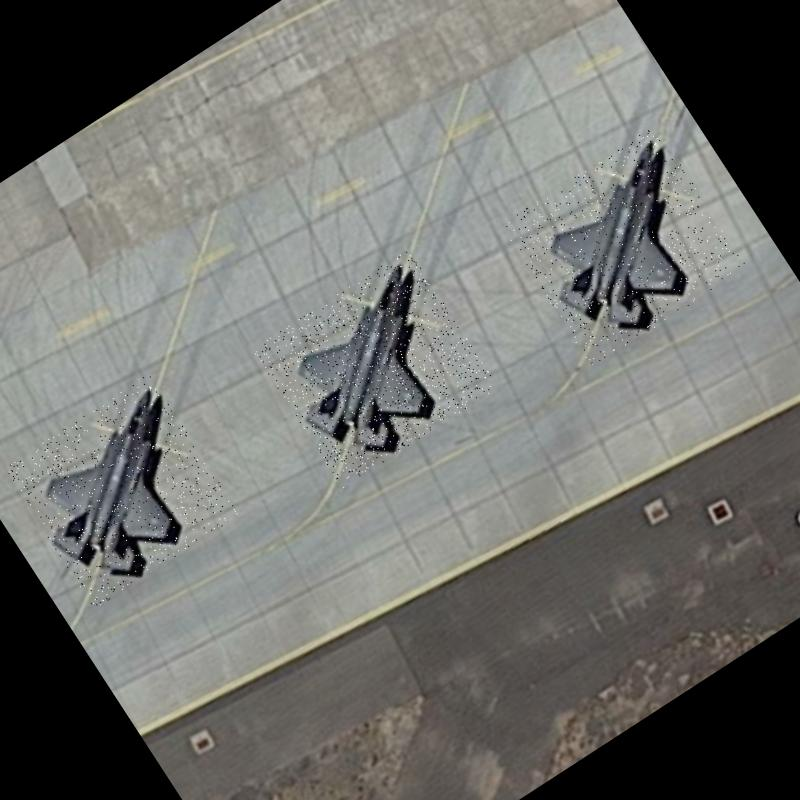A15: (500, 125, 748, 368), (252, 248, 498, 488), (3, 373, 241, 609)
